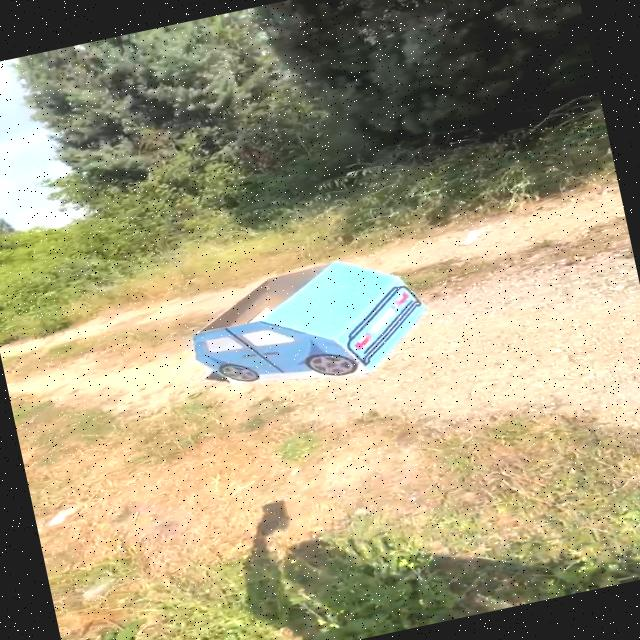blue_car: (163, 236, 452, 414)
